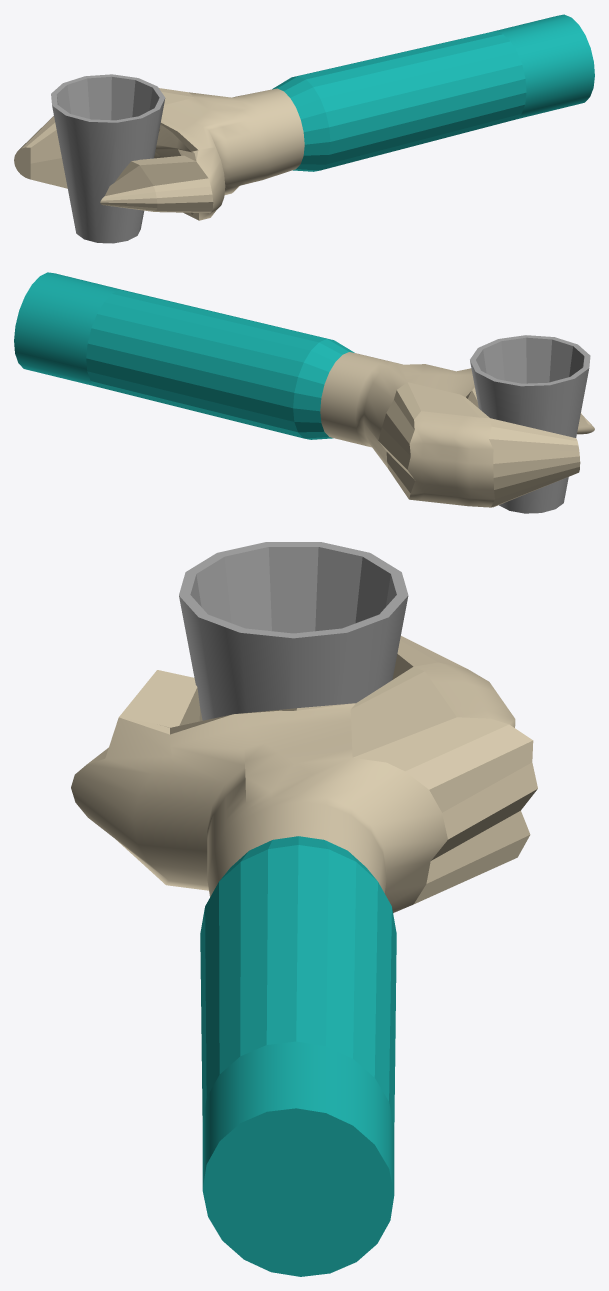
File: kol_ve_bardak.fbx
3 views of the same model, one above another, from view 1: azimuth 30°, elevation 25°; view 2: azimuth 150°, elevation 25°; view 3: azimuth 270°, elevation 25° (orthographic). The views are drawn at different scales.
Visible parts, largest first — view 1: kol, coffee; view 2: kol, coffee; view 3: kol, coffee.
Boxes of the visible parts, left/top/right/bottom form: kol: left=14, top=14, right=594, bottom=220; coffee: left=51, top=74, right=165, bottom=243; kol: left=14, top=272, right=594, bottom=507; coffee: left=470, top=335, right=590, bottom=513; kol: left=71, top=636, right=537, bottom=1276; coffee: left=179, top=542, right=408, bottom=720.
Bounding box in the file's own units: 13.95 × 3.27 × 5.28.
